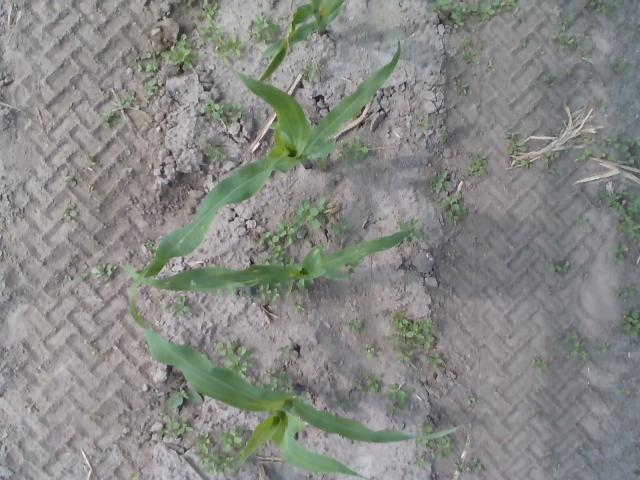Maize: (131, 36, 402, 310), (130, 294, 462, 480), (117, 221, 420, 291), (258, 0, 344, 82)
Weeds: (198, 0, 245, 58), (426, 0, 523, 28), (193, 426, 244, 476), (599, 189, 640, 240), (388, 310, 435, 350), (258, 220, 298, 265), (162, 33, 198, 71), (199, 97, 242, 126), (292, 198, 332, 229), (384, 382, 416, 418), (216, 340, 248, 375), (246, 14, 282, 44), (260, 366, 298, 393), (553, 14, 581, 49), (440, 194, 469, 225), (164, 389, 203, 412), (156, 416, 195, 438), (418, 438, 456, 460), (195, 136, 227, 162), (562, 330, 589, 360), (350, 366, 380, 393), (338, 138, 368, 164), (55, 251, 77, 285), (298, 59, 324, 84), (621, 308, 640, 339), (428, 169, 452, 193), (466, 153, 488, 179), (133, 52, 160, 73), (284, 279, 312, 299), (619, 136, 640, 162), (170, 292, 190, 318), (506, 130, 526, 156), (91, 263, 118, 281), (393, 345, 414, 368), (610, 284, 640, 300), (542, 150, 562, 168), (548, 258, 570, 274), (62, 200, 78, 222), (102, 110, 120, 129), (612, 240, 628, 261), (259, 285, 280, 301), (530, 356, 548, 374), (120, 90, 138, 108), (466, 457, 486, 473), (144, 79, 160, 99), (64, 172, 85, 186), (344, 317, 361, 334), (600, 134, 620, 148), (576, 147, 594, 162), (332, 218, 346, 237), (82, 153, 95, 172), (594, 341, 614, 353), (429, 353, 443, 370), (590, 0, 607, 14), (416, 114, 428, 133), (546, 450, 562, 464), (419, 419, 435, 433), (362, 343, 375, 360), (454, 79, 468, 94), (332, 398, 347, 412), (542, 72, 559, 84), (413, 454, 427, 468), (613, 59, 627, 73), (24, 399, 38, 412), (276, 346, 290, 359), (579, 46, 593, 59), (144, 238, 156, 253), (461, 50, 473, 64), (292, 301, 304, 315), (396, 218, 410, 230), (615, 386, 630, 396), (576, 215, 586, 229), (387, 333, 401, 343), (316, 158, 328, 169), (80, 266, 88, 282), (467, 392, 476, 406), (242, 292, 254, 302), (520, 158, 532, 168), (0, 244, 8, 258), (519, 38, 529, 48), (460, 37, 470, 47), (592, 96, 602, 106), (412, 229, 422, 239), (626, 21, 636, 30), (598, 150, 608, 159), (123, 166, 132, 176), (126, 473, 138, 480), (535, 407, 542, 418), (454, 463, 462, 472), (534, 389, 544, 396), (442, 131, 452, 138), (564, 68, 572, 76), (488, 60, 496, 68), (160, 129, 168, 137), (124, 149, 131, 158), (587, 137, 595, 144), (186, 0, 197, 5), (610, 0, 618, 6), (374, 313, 378, 317)
